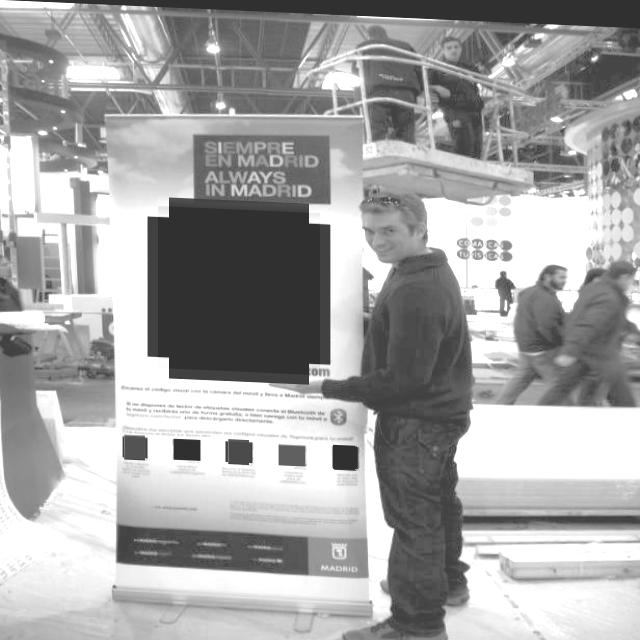qr_code: (158, 205, 320, 372), (278, 442, 306, 464), (333, 442, 358, 466), (227, 438, 251, 462), (174, 437, 200, 459), (124, 434, 146, 458)
